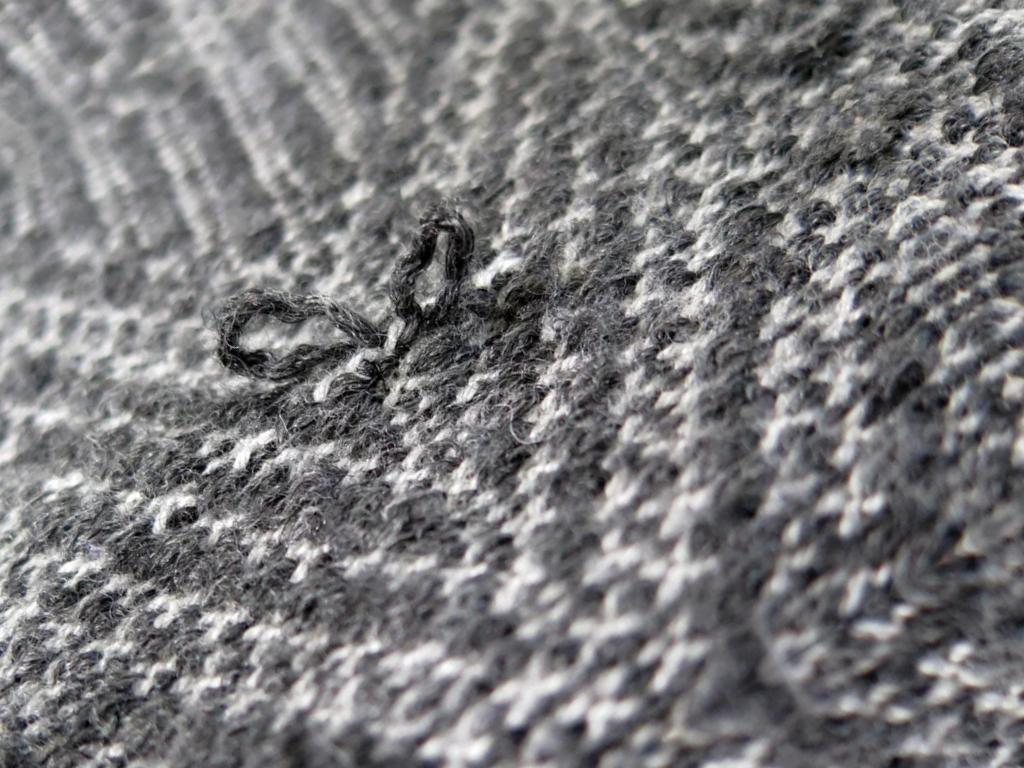snag: (203, 276, 377, 404), (377, 200, 497, 334)
